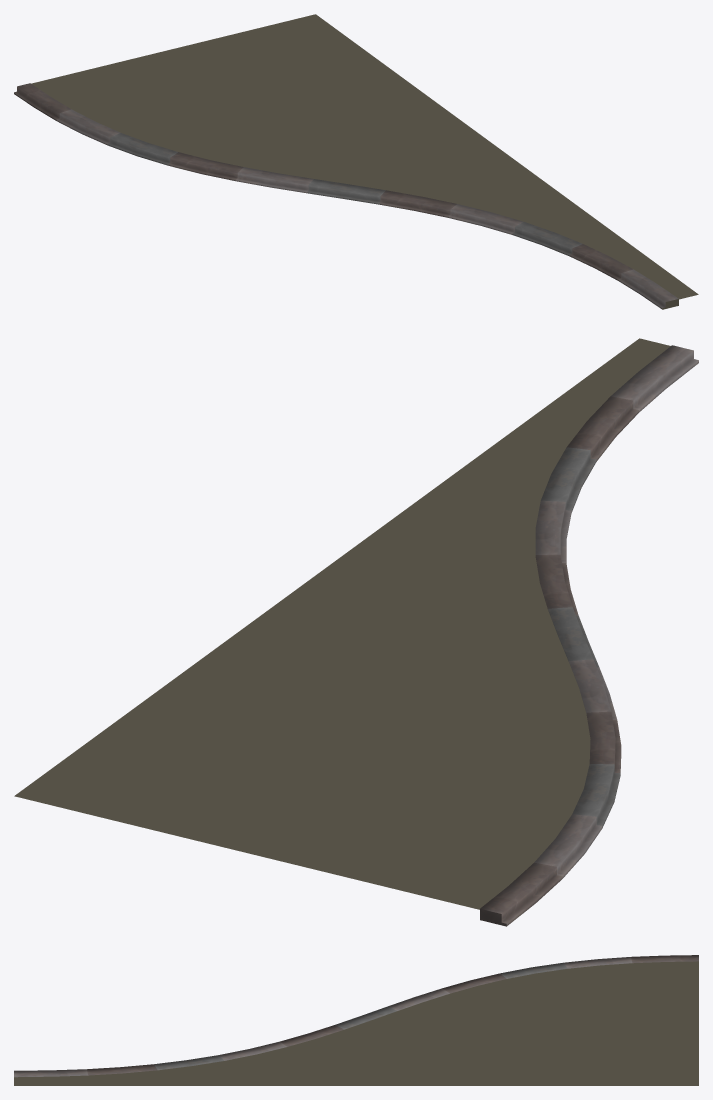
The model's file is Curb_Bend_10x20.fbx.
3 renders of one model, top to bottom at view 1: azimuth 30°, elevation 25°; view 2: azimuth 150°, elevation 25°; view 3: azimuth 270°, elevation 25°, orthographic. The views are drawn at different scales.
Parts seen in each view (by area): view 1: Curb_Bend_10x20; view 2: Curb_Bend_10x20; view 3: Curb_Bend_10x20.
Part boxes in pixels (<box>): Curb_Bend_10x20: <box>14,14,698,309</box>; Curb_Bend_10x20: <box>14,338,698,926</box>; Curb_Bend_10x20: <box>14,955,698,1085</box>.
Size of the model in its own units: 9.09 by 0.2 by 20.
